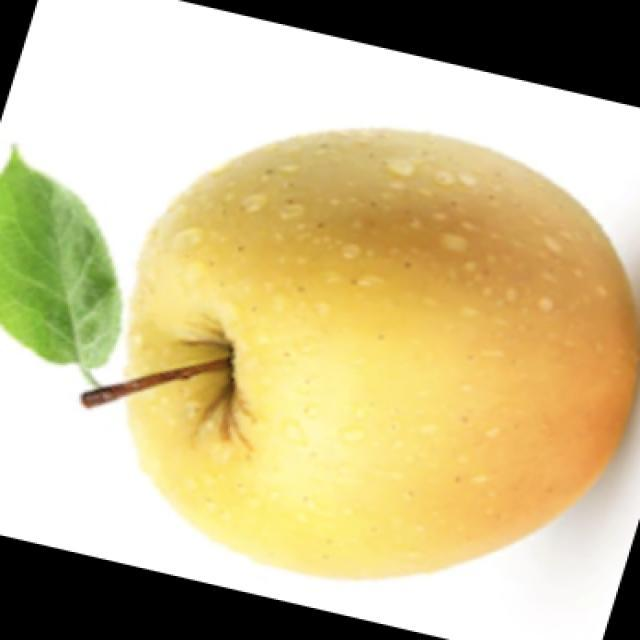Fresh Apple: (123, 115, 640, 560)
